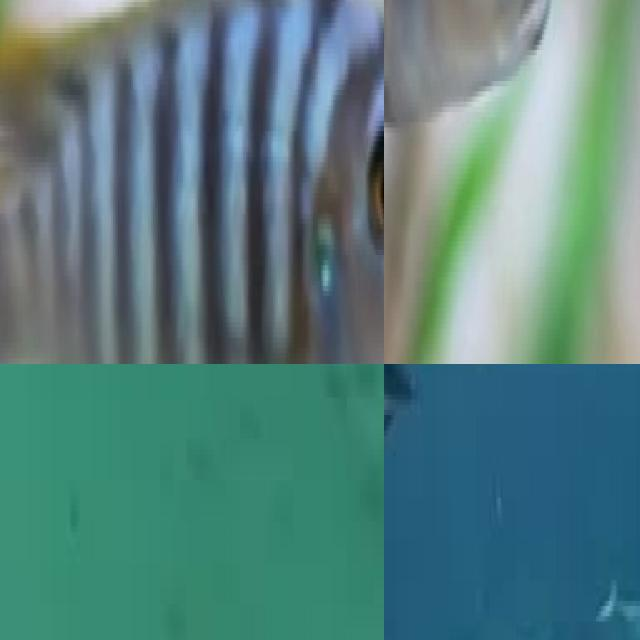fish: (0, 0, 384, 364), (384, 0, 557, 112)
